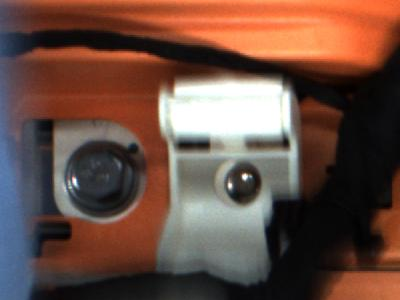nut_b: (60, 138, 148, 218)
